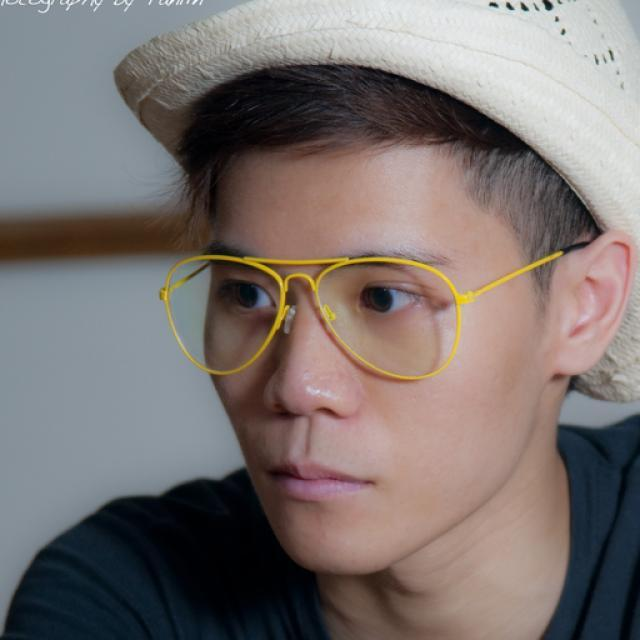neutral: (201, 138, 540, 574)
